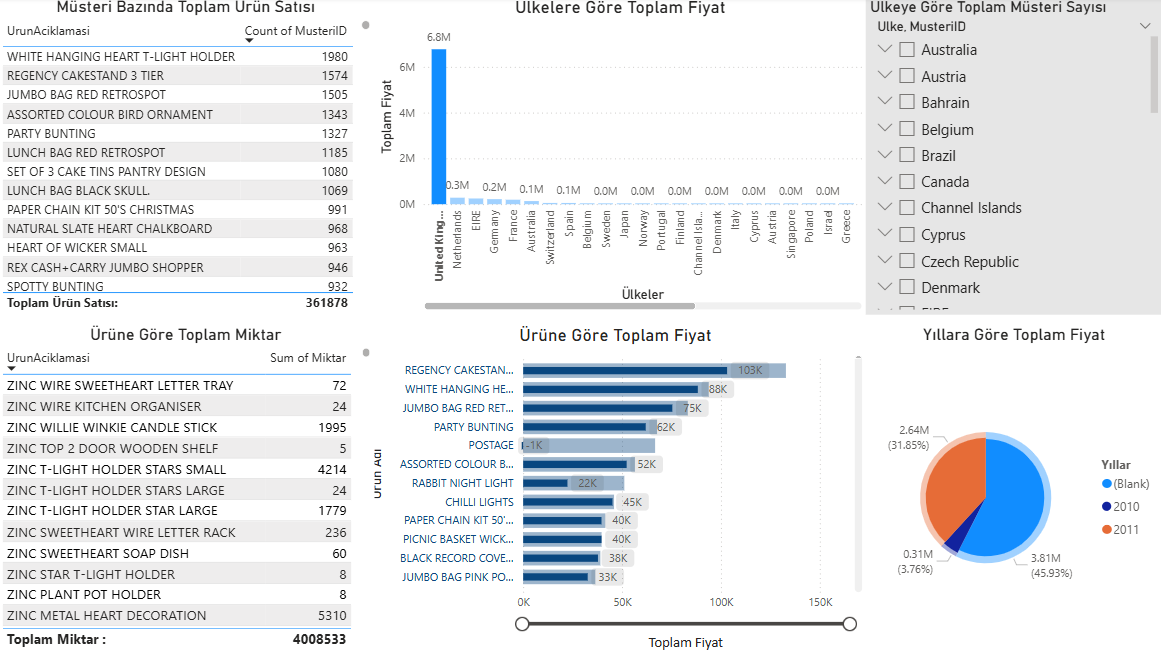

What the dashboard file says about the page in this screenshot:
{"tool":"powerbi","page":{"name":"Page 1","canvas":[1280,720],"ordinal":0},"visuals":[{"type":"barChart","title":"Ürüne Göre Toplam Fiyat","fields":{"Category":["cleaned_data.UrunAciklamasi"],"Y":["Sum(cleaned_data.ToplamFiyat)"]},"box":[402.9,360,551.4,360],"z":0},{"type":"pieChart","title":"Yıllara Göre Toplam Fiyat","fields":{"Category":["cleaned_data.FaturaTarihi.Variation.Date Hierarchy.Year","cleaned_data.FaturaTarihi.Variation.Date Hierarchy.Quarter","cleaned_data.FaturaTarihi.Variation.Date Hierarchy.Month","cleaned_data.FaturaTarihi.Variation.Date Hierarchy.Day"],"Y":["Sum(cleaned_data.ToplamFiyat)"]},"box":[954.3,360,325.7,360],"z":1000},{"type":"columnChart","title":"Ülkelere Göre Toplam Fiyat","fields":{"Category":["cleaned_data.Ulke"],"Y":["Sum(cleaned_data.ToplamFiyat)"]},"box":[414.3,0,540,348.6],"z":2000},{"type":"tableEx","title":"Ürüne Göre Toplam Miktar","fields":{"Values":["cleaned_data.UrunAciklamasi","Sum(cleaned_data.Miktar)"]},"box":[0,360,402.9,360],"z":3000},{"type":"tableEx","title":"Müsteri Bazında Toplam Ürün Satısı","fields":{"Values":["cleaned_data.UrunAciklamasi","CountNonNull(cleaned_data.MusteriID)"]},"box":[0,0,414.3,350],"z":4000},{"type":"slicer","title":"Ülkeye Göre Toplam Müsteri Sayısı","fields":{"Values":["cleaned_data.Ulke","cleaned_data.MusteriID"]},"box":[954.3,0,325.7,348.6],"z":5000}]}

Visuals, with their boxes in screenshot pixels (x1, y1, x2, y2), scaled from the page's 1280x720 canvas onto the 1161x652 screenshot:
"Ürüne Göre Toplam Fiyat" barChart: {"left": 365, "top": 326, "right": 866, "bottom": 651}
"Yıllara Göre Toplam Fiyat" pieChart: {"left": 866, "top": 326, "right": 1160, "bottom": 651}
"Ülkelere Göre Toplam Fiyat" columnChart: {"left": 376, "top": 0, "right": 866, "bottom": 316}
"Ürüne Göre Toplam Miktar" tableEx: {"left": 0, "top": 326, "right": 365, "bottom": 651}
"Müsteri Bazında Toplam Ürün Satısı" tableEx: {"left": 0, "top": 0, "right": 376, "bottom": 317}
"Ülkeye Göre Toplam Müsteri Sayısı" slicer: {"left": 866, "top": 0, "right": 1160, "bottom": 316}
